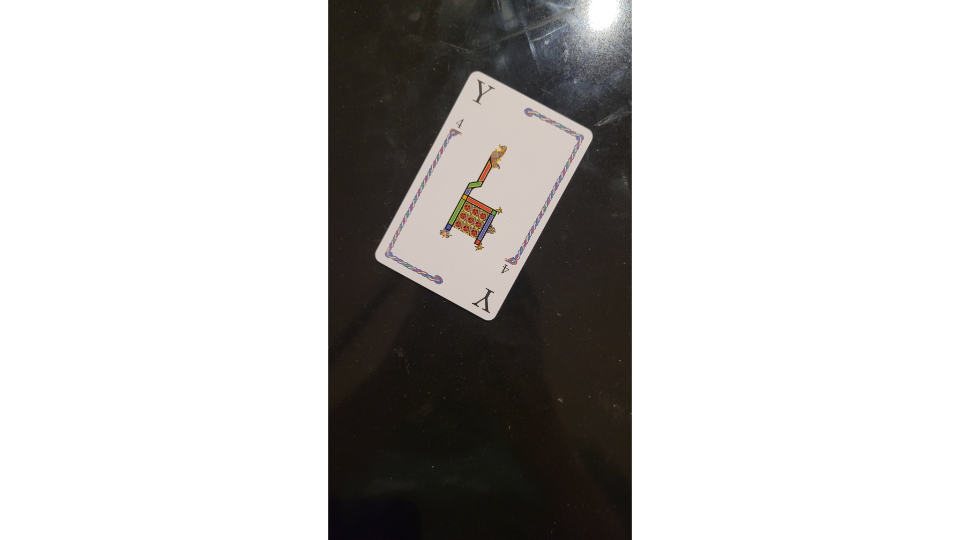Y: (372, 69, 596, 323)
